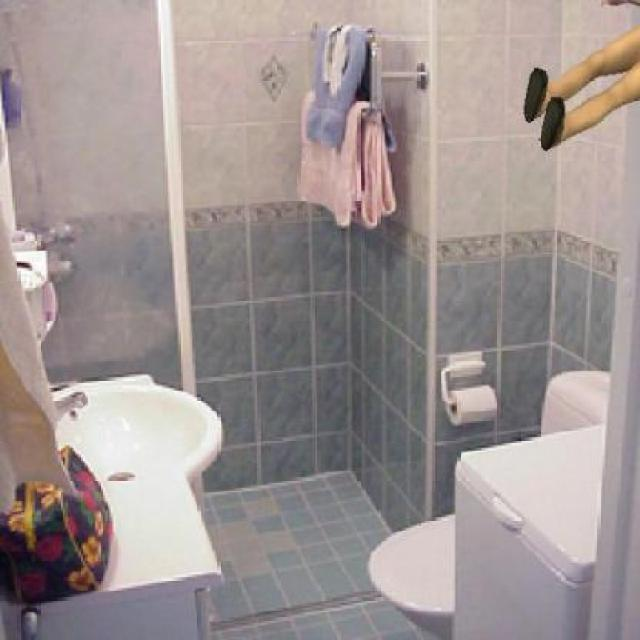Person: (521, 3, 639, 159)
